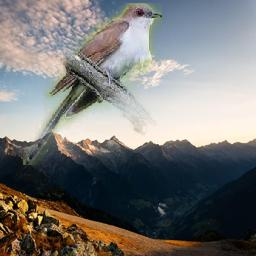Cuckoo: (24, 3, 163, 165)
